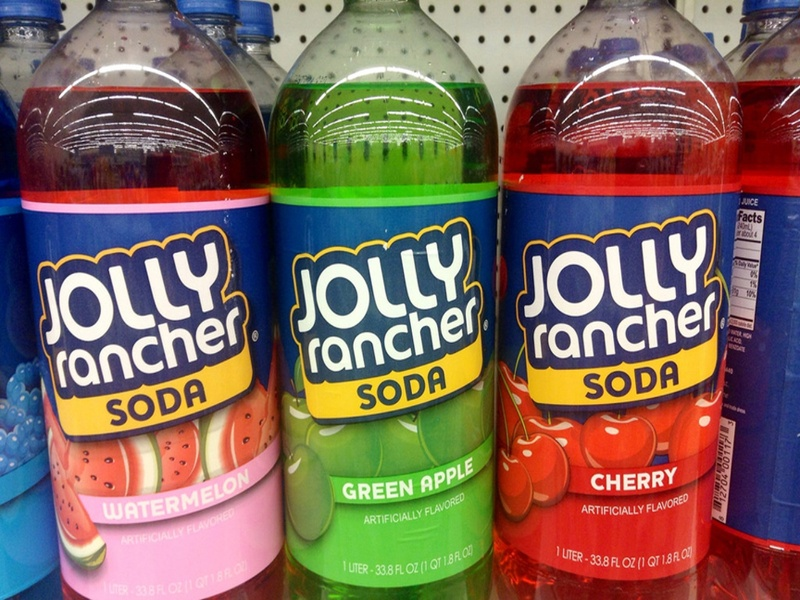Plastic bottle: (2, 12, 306, 600), (246, 1, 522, 600), (492, 12, 748, 587)
